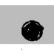correct: (16, 15, 44, 44)
